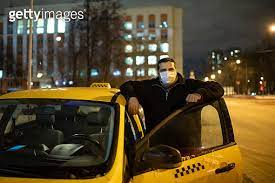mask: (160, 71, 176, 84)
